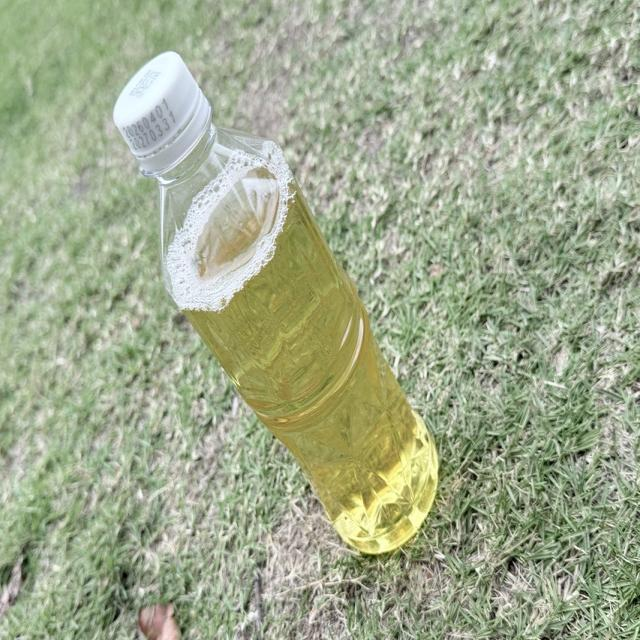high: (114, 52, 437, 553)
